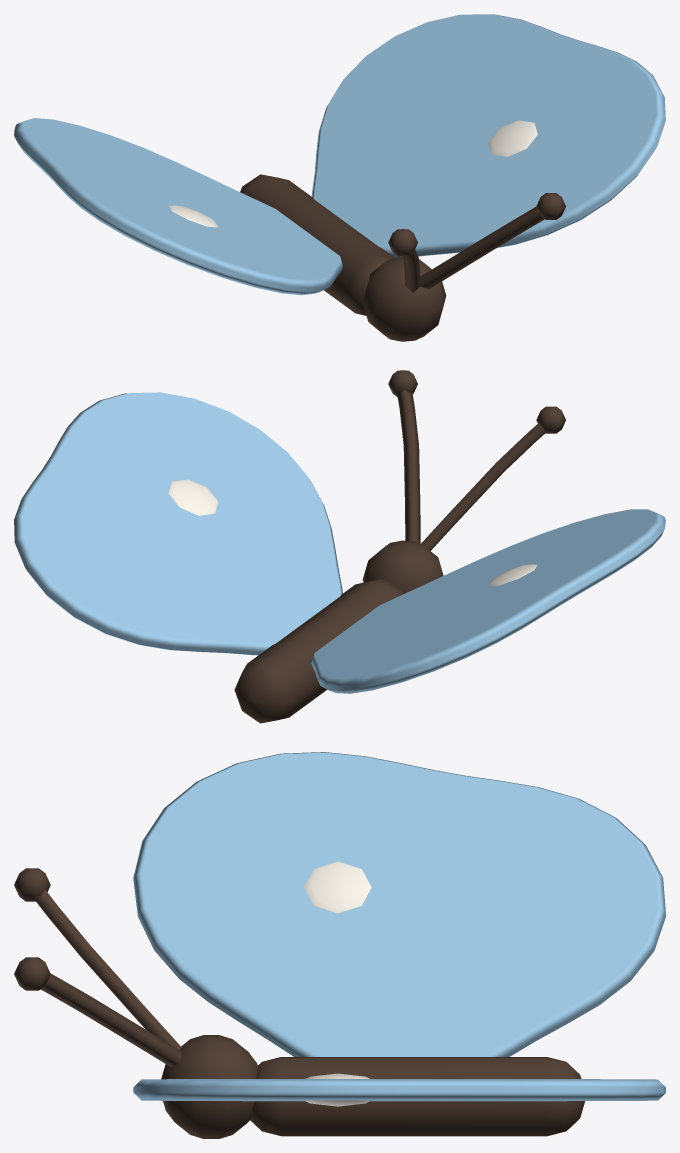
File: pet_butterfly_blue.glb
The picture shows the model from 3 angles, top to bottom: view 1: azimuth 30°, elevation 25°; view 2: azimuth 150°, elevation 25°; view 3: azimuth 270°, elevation 25°; orthographic projection. The views are drawn at different scales.
Visible parts, largest first — view 1: pet_butterfly_blue_WingR_mesh, pet_butterfly_blue_WingL_mesh, pet_butterfly_blue_mesh; view 2: pet_butterfly_blue_WingR_mesh, pet_butterfly_blue_WingL_mesh, pet_butterfly_blue_mesh; view 3: pet_butterfly_blue_WingL_mesh, pet_butterfly_blue_mesh, pet_butterfly_blue_WingR_mesh.
Boxes of the visible parts, x1=… form: pet_butterfly_blue_WingR_mesh: x1=311, y1=14, x2=665, y2=257; pet_butterfly_blue_WingL_mesh: x1=14, y1=118, x2=342, y2=295; pet_butterfly_blue_mesh: x1=240, y1=174, x2=565, y2=341; pet_butterfly_blue_WingR_mesh: x1=14, y1=392, x2=342, y2=655; pet_butterfly_blue_WingL_mesh: x1=311, y1=509, x2=665, y2=693; pet_butterfly_blue_mesh: x1=234, y1=370, x2=565, y2=723; pet_butterfly_blue_WingL_mesh: x1=133, y1=752, x2=665, y2=1056; pet_butterfly_blue_mesh: x1=14, y1=868, x2=584, y2=1138; pet_butterfly_blue_WingR_mesh: x1=133, y1=1073, x2=665, y2=1106.
Bounding box in the file's own units: 0.1966 × 0.0605 × 0.161.
